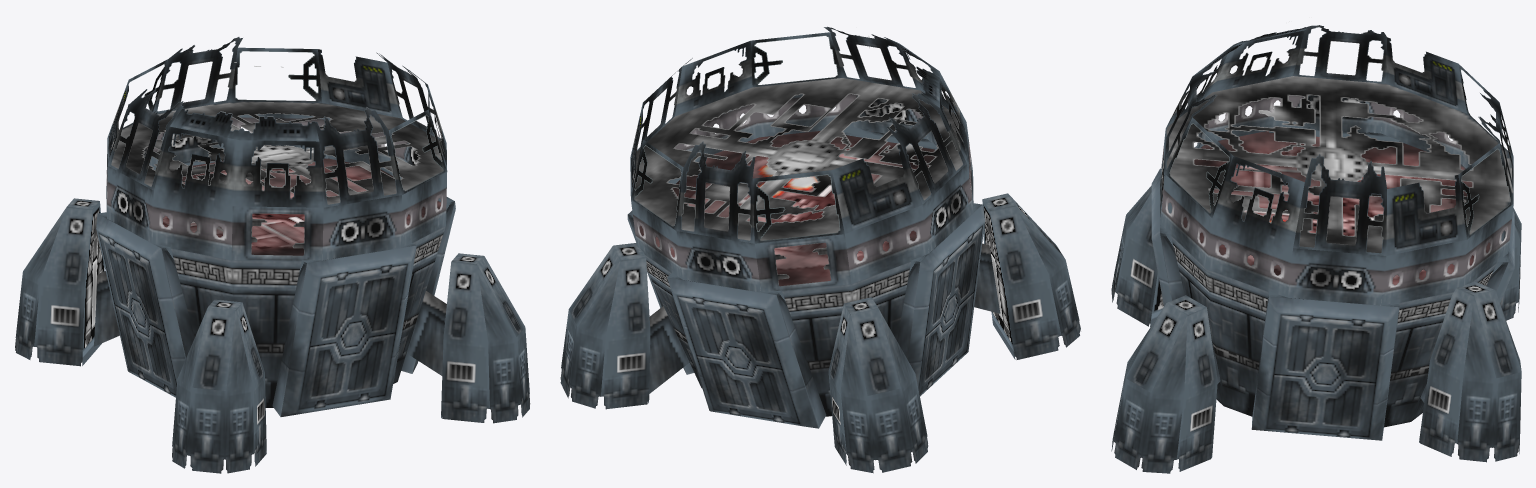
File: dropshipsteiner_dam.glb
3 renders of one model, left to right at view 1: azimuth 30°, elevation 25°; view 2: azimuth 150°, elevation 25°; view 3: azimuth 270°, elevation 25°, orthographic. The views are drawn at different scales.
Parts seen in each view (by area): view 1: DropshipDam; view 2: DropshipDam; view 3: DropshipDam.
Part boxes in pixels (x1=…): DropshipDam: x1=15, y1=37, x2=530, y2=473; DropshipDam: x1=560, y1=26, x2=1080, y2=473; DropshipDam: x1=1111, y1=21, x2=1521, y2=473.
Bounding box in the file's own units: 35.96 × 32.97 × 34.85.
1 material, 1 textured.
